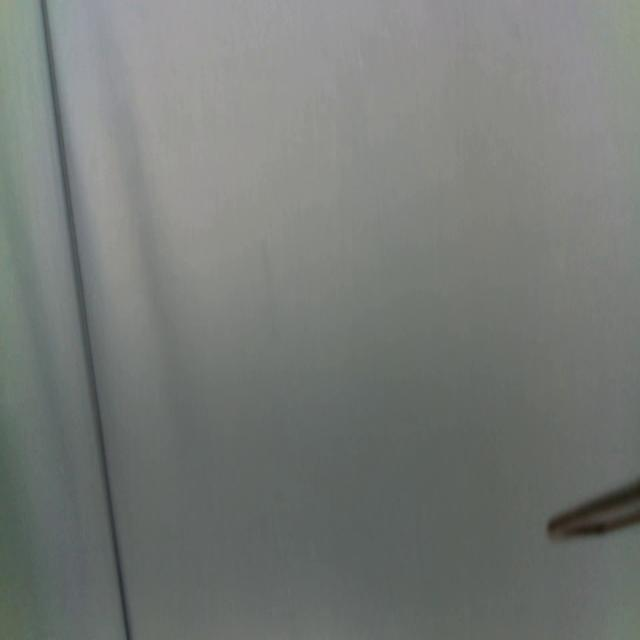crease: (43, 2, 130, 638)
